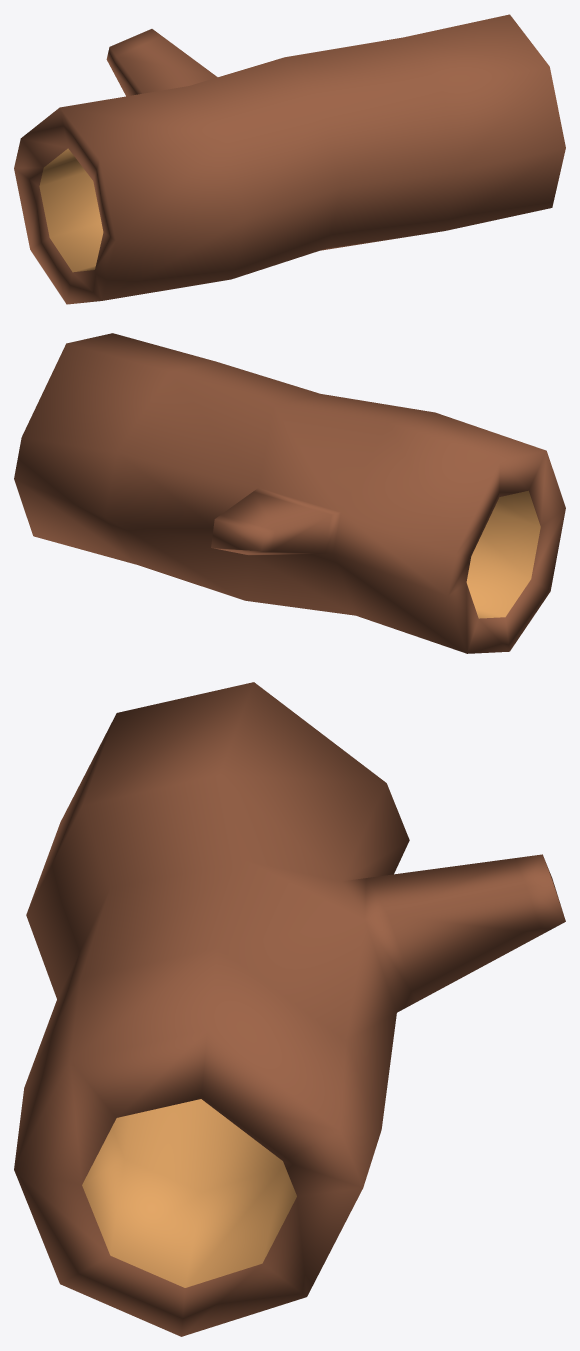
The model's file is Log_02_LOD2.gltf.
The picture shows the model from 3 angles, top to bottom: view 1: azimuth 30°, elevation 25°; view 2: azimuth 150°, elevation 25°; view 3: azimuth 270°, elevation 25°; orthographic projection. The views are drawn at different scales.
Visible parts, largest first — view 1: Log_02_LOD2_Cylinder.082; view 2: Log_02_LOD2_Cylinder.082; view 3: Log_02_LOD2_Cylinder.082.
Part boxes in pixels (<box>): Log_02_LOD2_Cylinder.082: <box>14,14,565,304</box>; Log_02_LOD2_Cylinder.082: <box>14,333,565,653</box>; Log_02_LOD2_Cylinder.082: <box>14,682,565,1336</box>.
Bounding box in the file's own units: 5.74 × 2.38 × 3.79.
1 material, 1 textured.
